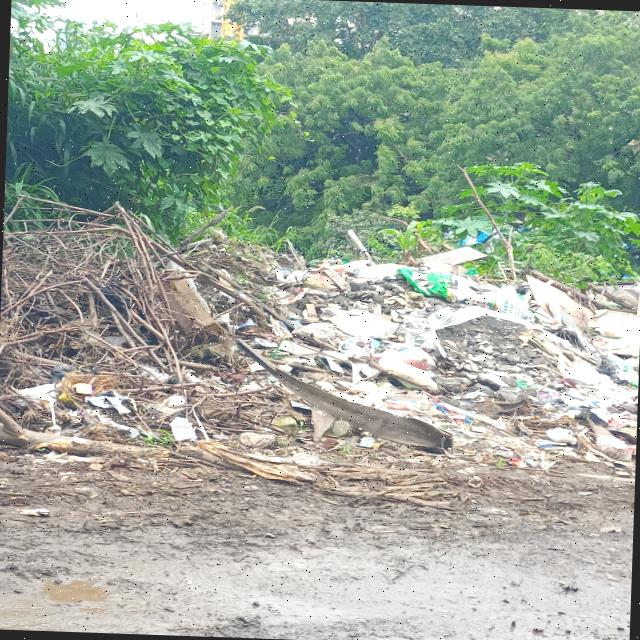garbage: (0, 214, 635, 487)
